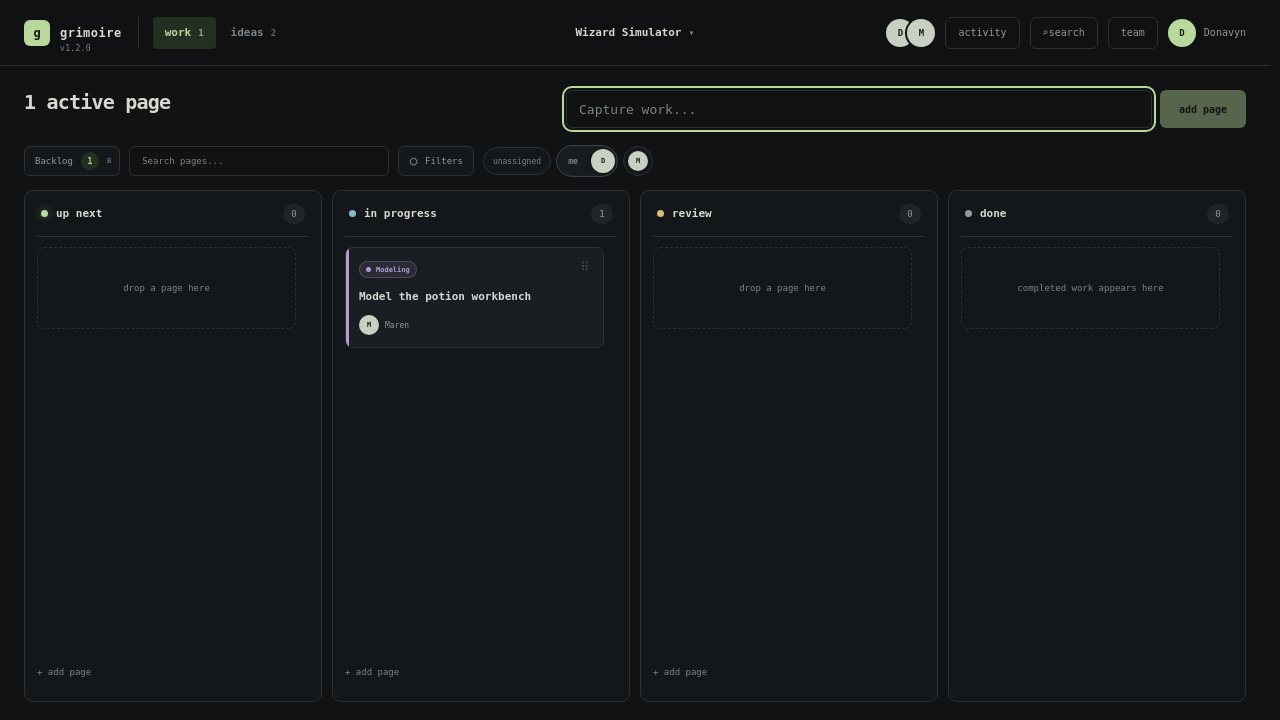
Test: the Discord recap settings › opens its instructions for a project that has not set one up
Click the button "Wizard Simulator ▾" at (635, 32), box [568,22,702,43]
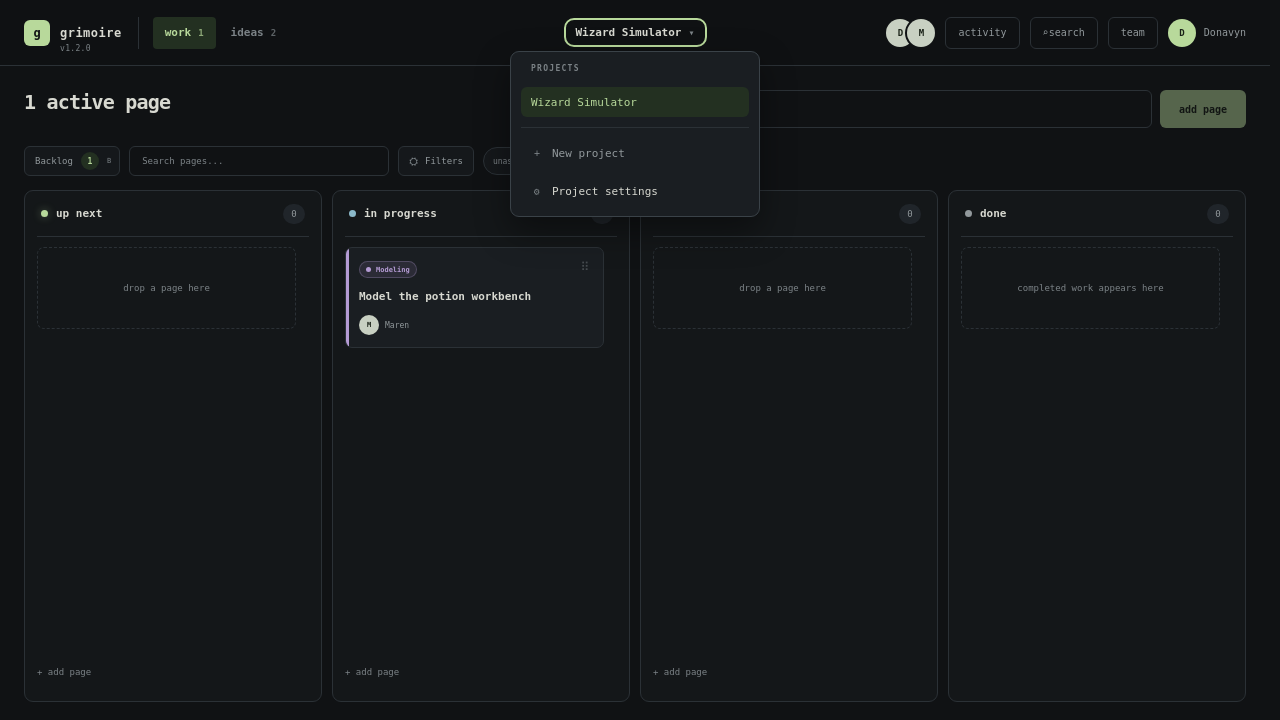
Click the menu item "⚙ Project settings" at (635, 191), box [521,176,749,206]
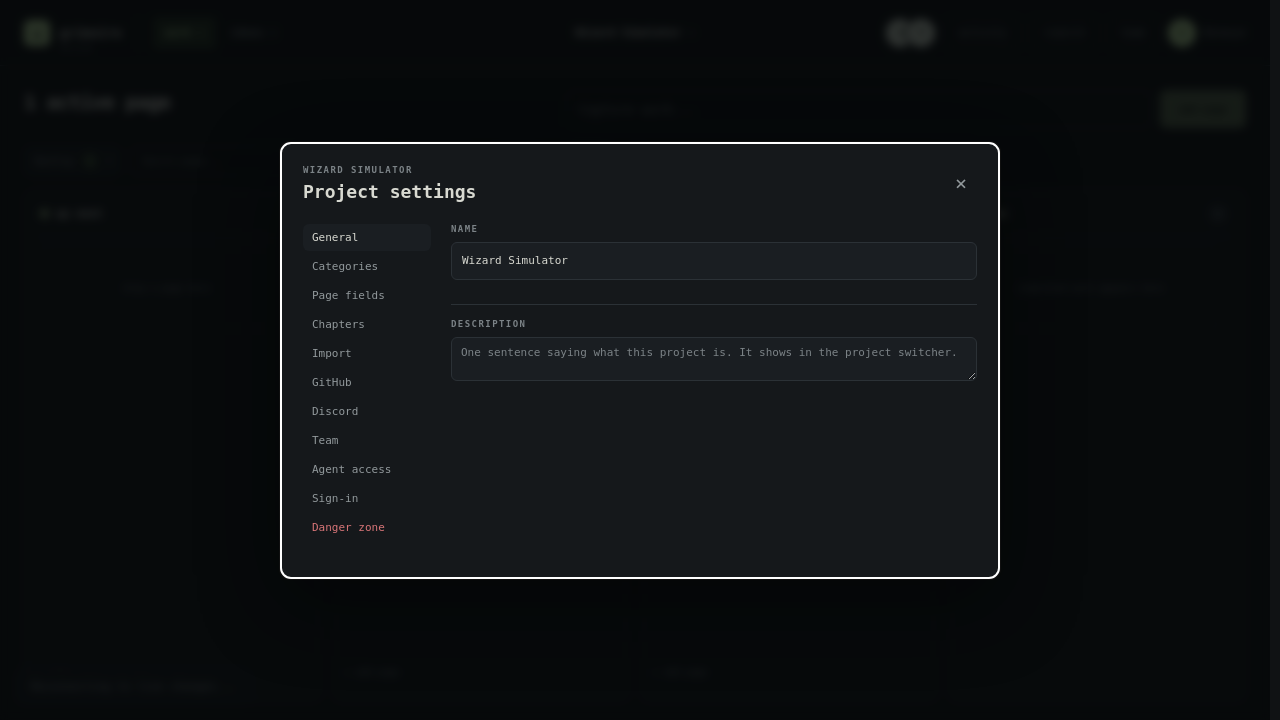
Click the button "Discord" at (367, 411), box [303,398,431,424]
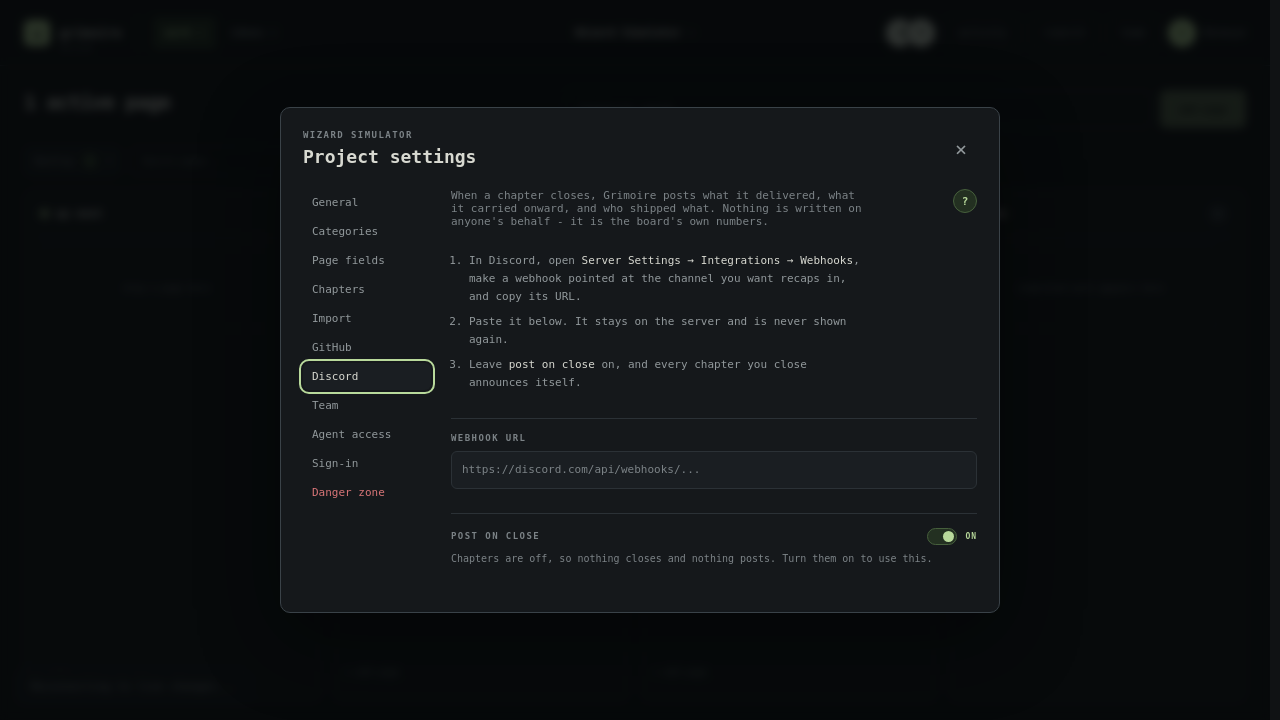
Result: the text "Server Settings → Integrations → Webhooks" is shown at [582,254,853,267]
